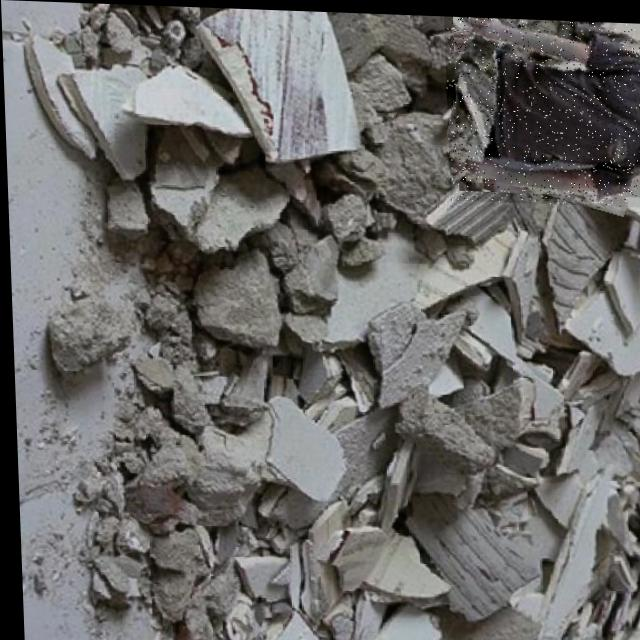Person in Rubble: (443, 13, 640, 203)
